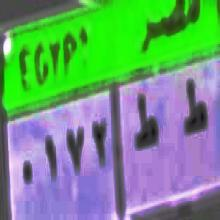0: (22, 147, 36, 198)
1: (41, 128, 59, 187)
2: (92, 114, 110, 170)
7: (66, 124, 86, 180)
Taa: (130, 93, 159, 164), (179, 76, 207, 147)
